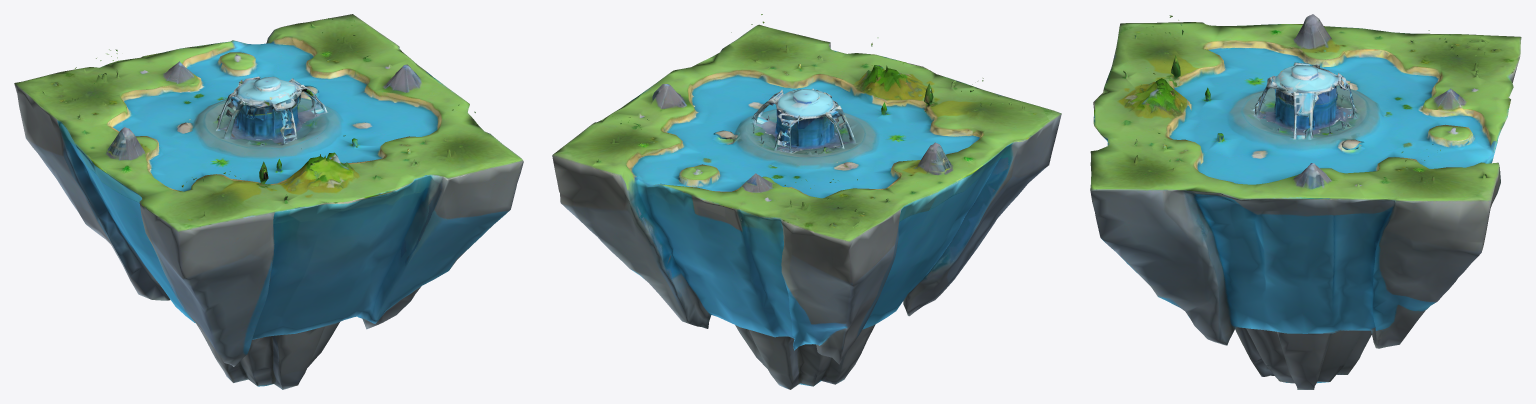
Rendered from AguaDulce.glb.
The picture shows the model from 3 angles, left to right: view 1: azimuth 30°, elevation 25°; view 2: azimuth 150°, elevation 25°; view 3: azimuth 270°, elevation 25°; orthographic projection. The views are drawn at different scales.
Bounding box in the file's own units: 1.95 × 1.59 × 1.97.
1 material, 1 textured.
